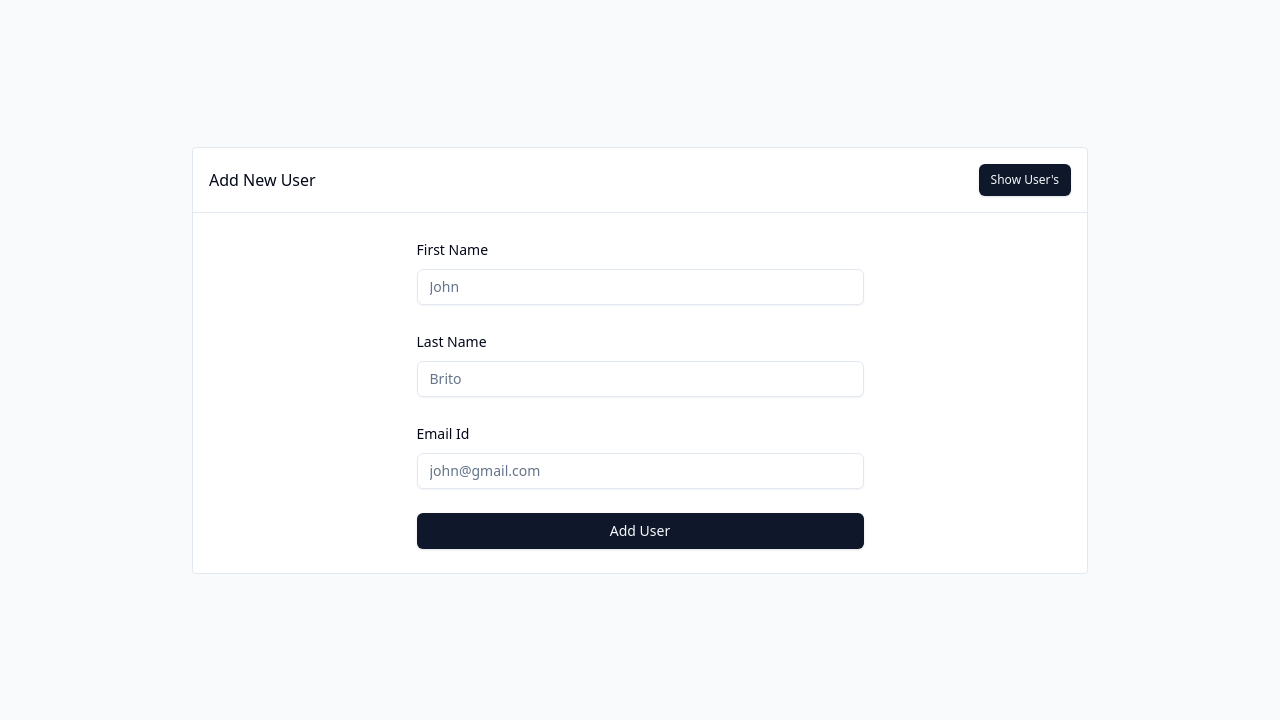
Test: Error display test › should throw error message if form submitted without provide input
This screenshot has width=1280, height=720.
Expected: the element with test id "cy-add-user-button" is enabled
Click the button with test id "cy-add-user-button". click: x=641, y=531
box: [417,513,864,549]
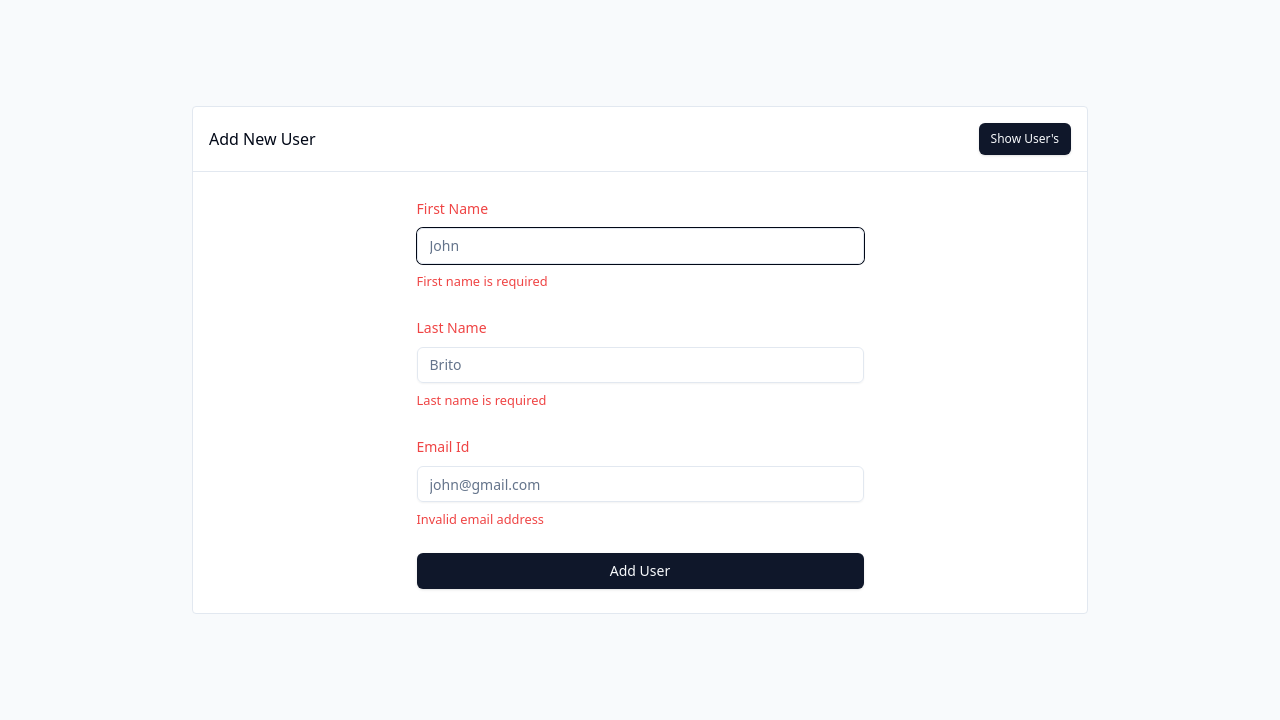
Now the text "First name is required" is shown
Now the text "Last name is required" is shown
Now the text "Invalid email address" is shown
